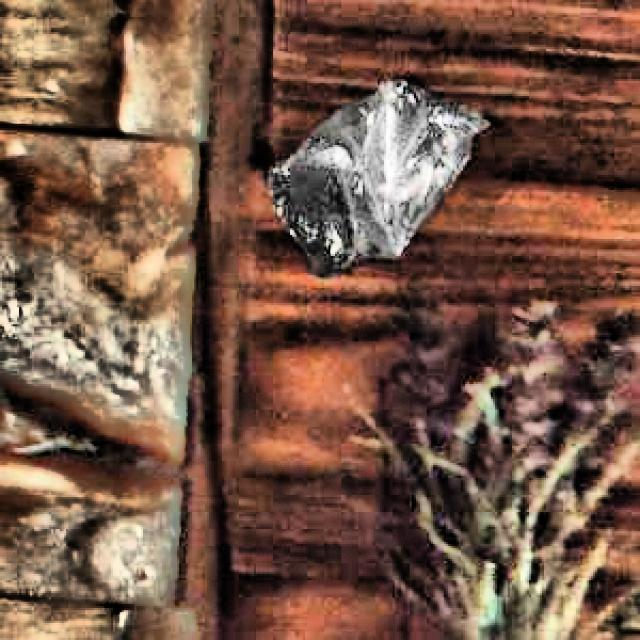Plastic: (280, 67, 489, 277)
